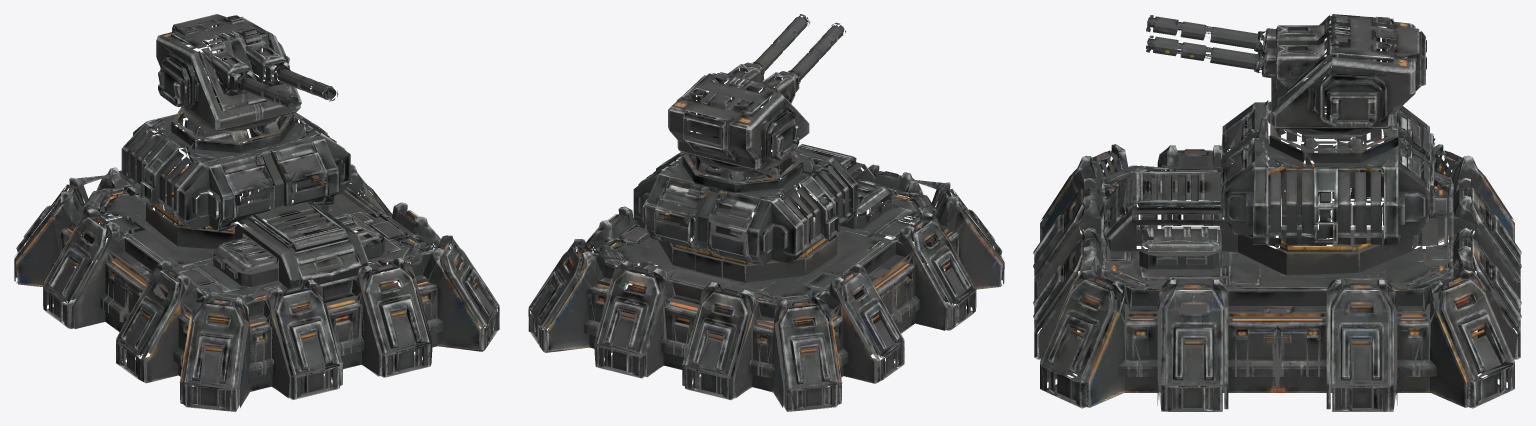
The model's file is bastion_LOD1.glb.
3 renders of one model, left to right at view 1: azimuth 30°, elevation 25°; view 2: azimuth 150°, elevation 25°; view 3: azimuth 270°, elevation 25°, orthographic. The views are drawn at different scales.
Visible parts, largest first — view 1: bastion_LOD1; view 2: bastion_LOD1; view 3: bastion_LOD1.
Part boxes in pixels (bbox=[...]): bastion_LOD1: bbox=[14, 14, 499, 411]; bastion_LOD1: bbox=[528, 14, 1004, 411]; bastion_LOD1: bbox=[1033, 14, 1521, 411].
Bounding box in the file's own units: 0.8884 × 0.6581 × 0.989.
Materials: 1 (1 with a texture image).
